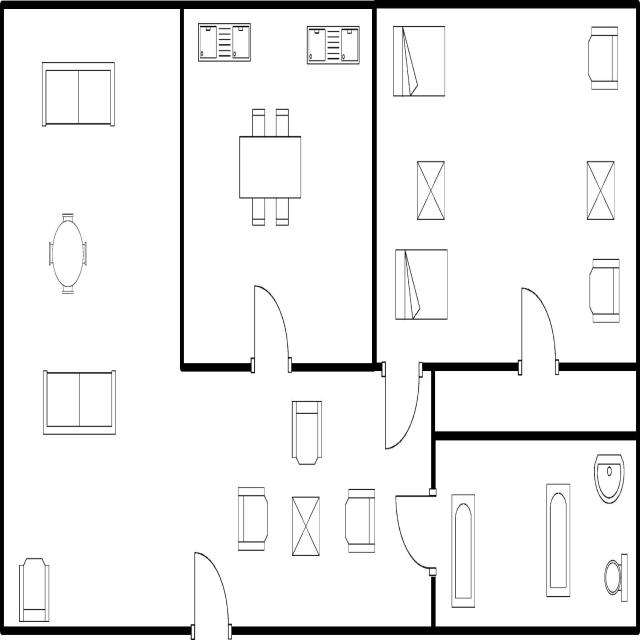armchair: (340, 482, 379, 560), (586, 250, 623, 332), (287, 392, 325, 471), (584, 18, 622, 96), (233, 481, 271, 557), (13, 552, 53, 624)
bed: (390, 241, 450, 330), (389, 17, 449, 105)
coffee_table: (414, 150, 448, 228), (288, 490, 324, 563), (583, 152, 617, 226)
dining_table: (235, 101, 307, 236)
large_sink: (602, 545, 629, 612)
large_sofa: (37, 364, 120, 446), (38, 56, 118, 137)
round_table: (45, 204, 90, 302)
small_sink: (588, 446, 629, 512)
tub: (542, 475, 574, 605), (448, 484, 479, 616)
twin_sink: (192, 17, 254, 73), (302, 20, 362, 70)
